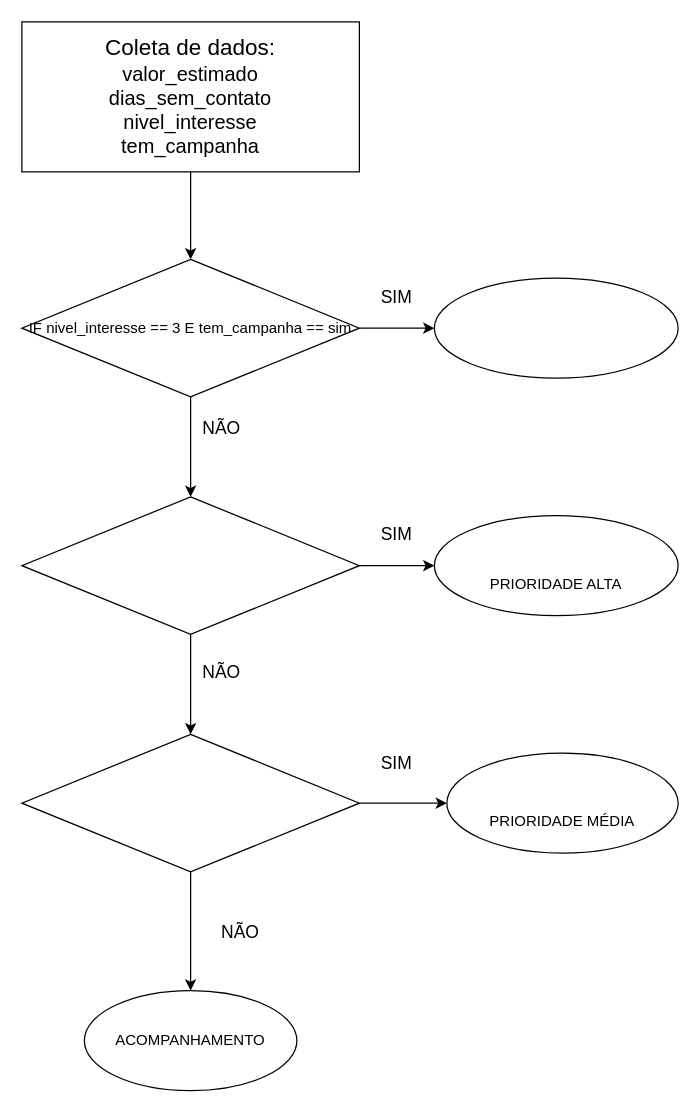
This 700x1113 diagram has some shape labels left out. The centre of each missing label's shape, as x and y in pixels:
"IF nivel_interesse == 2 OU dias_sem_contato > 5" belongs at (190,802).
"IF nivel_interesse == 3 OU valor_estimado >= 5000" belongs at (190,565).
"RETORNO IMEDIATO" belongs at (555,327).
